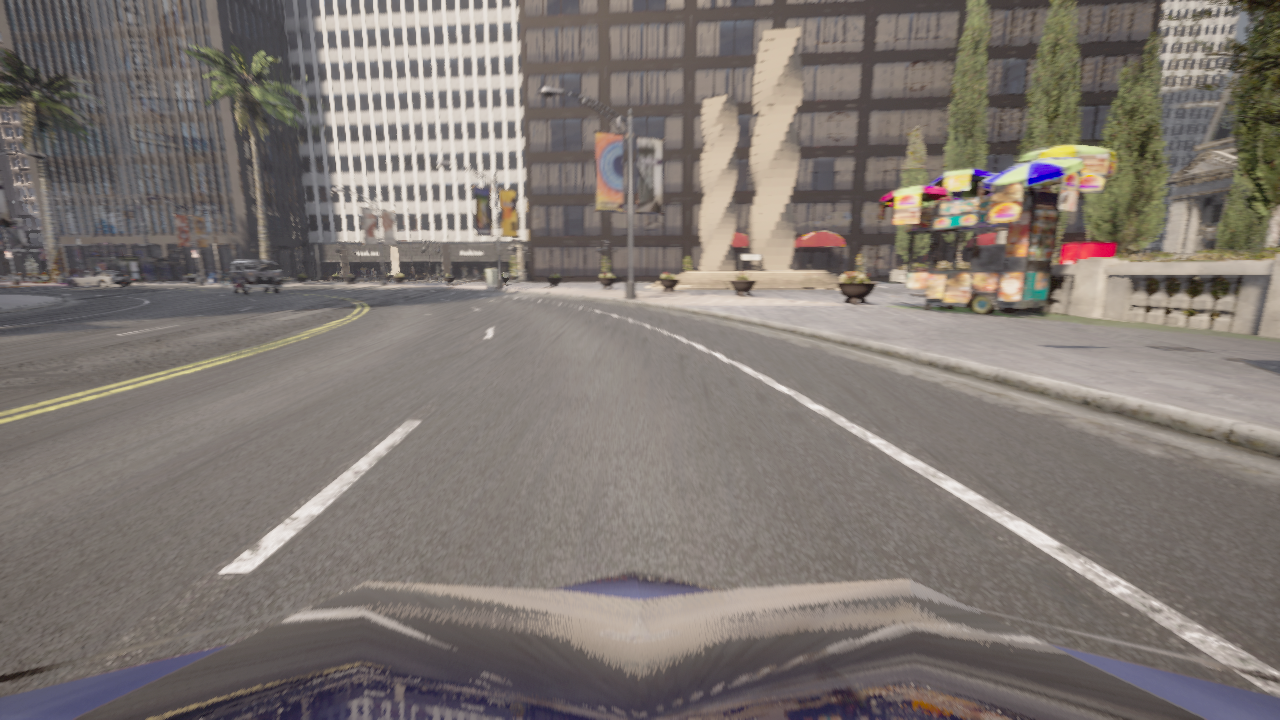cyclist: (0, 569, 1279, 719), (230, 260, 282, 294), (67, 271, 129, 287), (220, 275, 230, 287)
